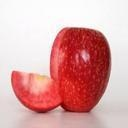apple: (10, 71, 64, 113)
